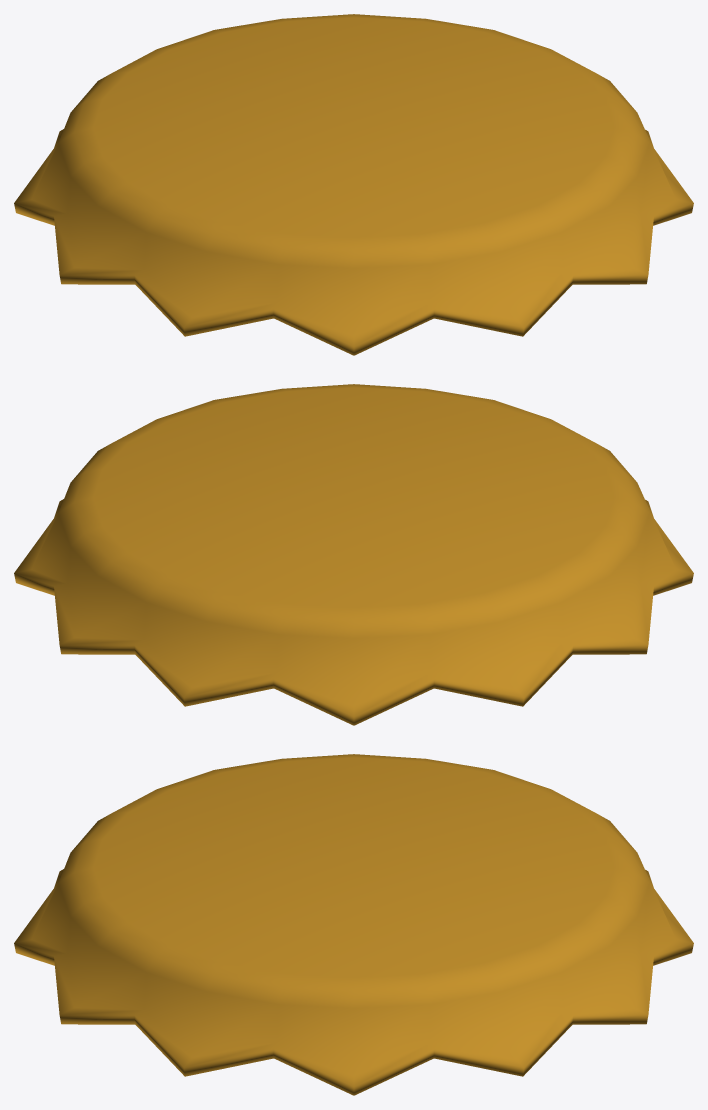
The model's file is Kronkorken.fbx.
3 renders of one model, top to bottom at view 1: azimuth 30°, elevation 25°; view 2: azimuth 150°, elevation 25°; view 3: azimuth 270°, elevation 25°, orthographic.
Visible parts, largest first — view 1: Kronkorken; view 2: Kronkorken; view 3: Kronkorken.
Part boxes in pixels (<box>): Kronkorken: <box>14,14,693,355</box>; Kronkorken: <box>14,384,693,725</box>; Kronkorken: <box>14,754,693,1095</box>.
Size of the model in its own units: 3.09 by 0.4275 by 3.09.
